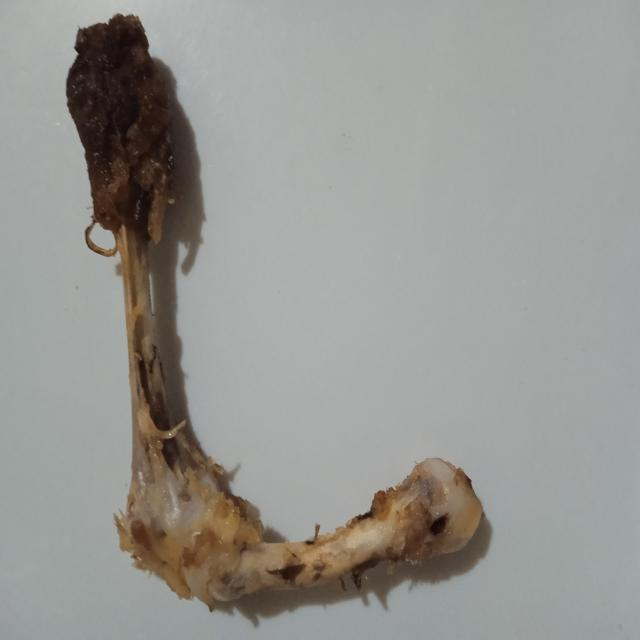bone: (58, 2, 492, 624)
